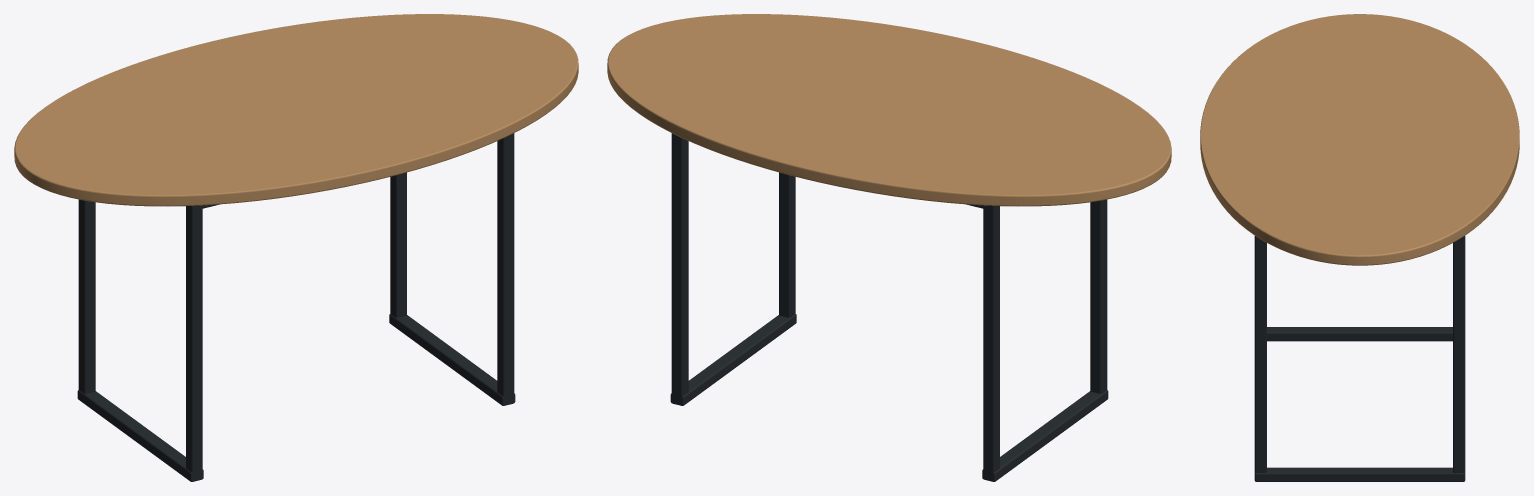
File: meetingTable-2.glb
3 renders of one model, left to right at view 1: azimuth 30°, elevation 25°; view 2: azimuth 150°, elevation 25°; view 3: azimuth 270°, elevation 25°, orthographic. The views are drawn at different scales.
Visible parts, largest first — view 1: meetingTable:2:archviz; view 2: meetingTable:2:archviz; view 3: meetingTable:2:archviz.
Boxes of the visible parts, bbox=[...] form: meetingTable:2:archviz: bbox=[14, 14, 578, 481]; meetingTable:2:archviz: bbox=[607, 14, 1171, 481]; meetingTable:2:archviz: bbox=[1200, 14, 1519, 481].
Size of the model in its own units: 1.4 by 0.74 by 0.7801.
